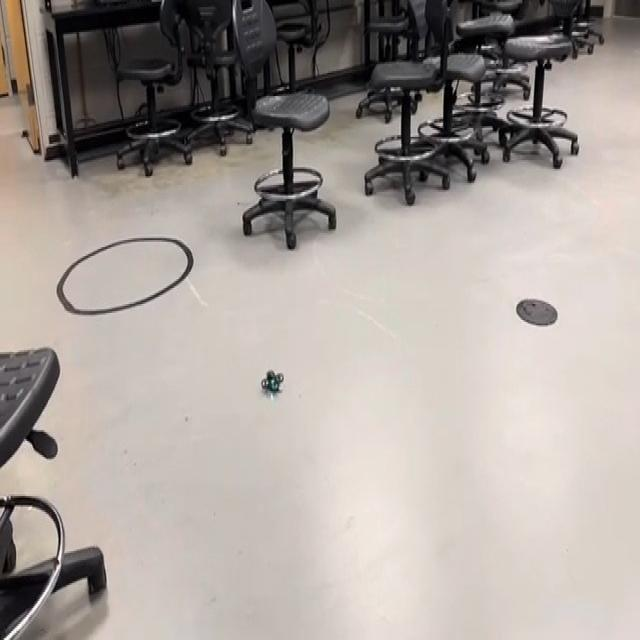drone: (255, 356, 290, 404)
